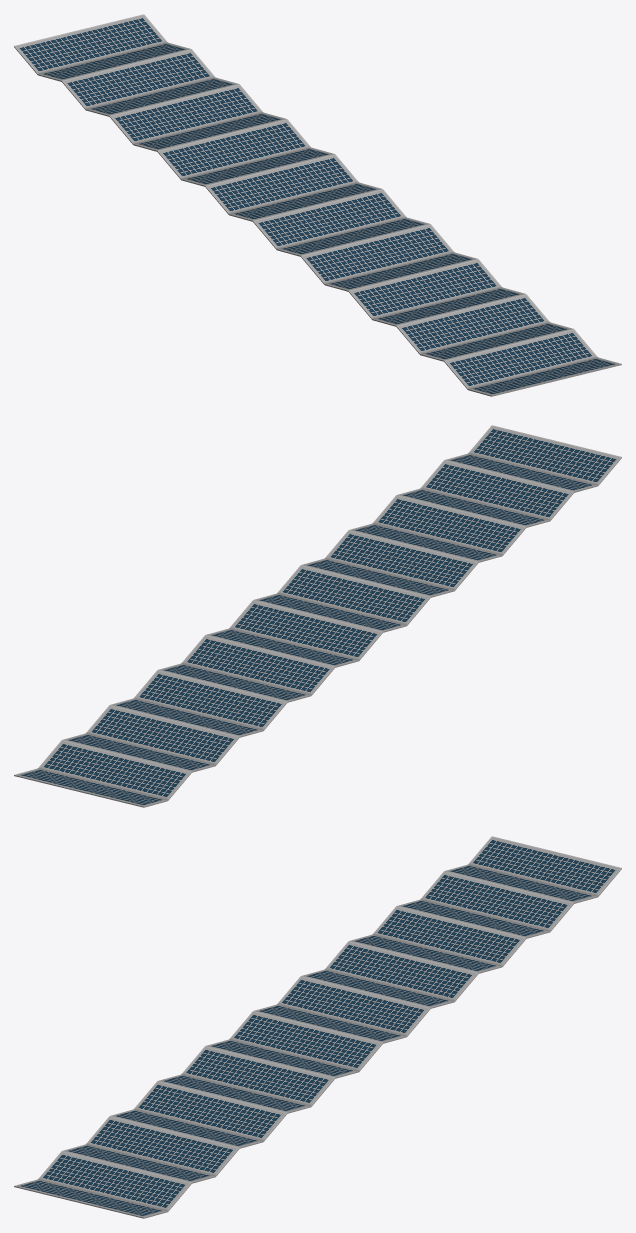
File: Acamar_Solar_1_Panel.obj
3 views of the same model, one above another, from view 1: azimuth 30°, elevation 25°; view 2: azimuth 150°, elevation 25°; view 3: azimuth 330°, elevation 25° (orthographic).
Parts seen in each view (by area): view 1: Acamar_Solar_1_Panel; view 2: Acamar_Solar_1_Panel; view 3: Acamar_Solar_1_Panel.
Boxes of the visible parts, x1,y1,x2,y2 form: Acamar_Solar_1_Panel: (14, 14, 621, 396); Acamar_Solar_1_Panel: (14, 425, 621, 807); Acamar_Solar_1_Panel: (14, 836, 621, 1218).
Bounding box in the file's own units: 1.25 × 0.11 × 7.95.
